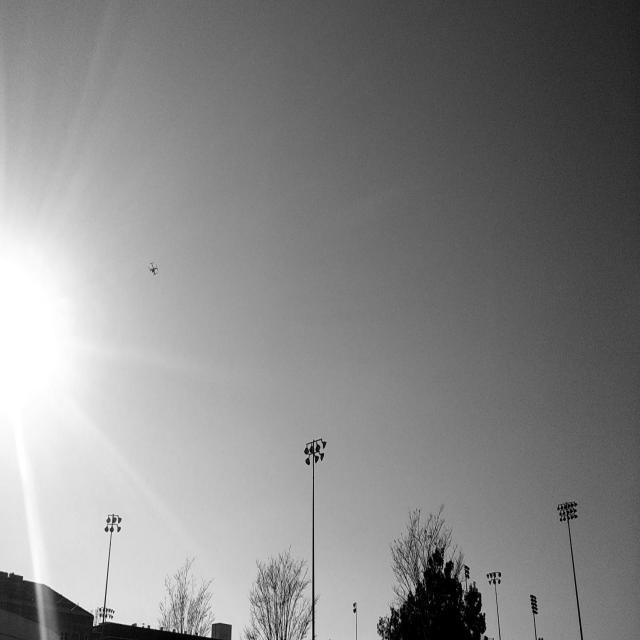drone: (145, 254, 162, 278)
